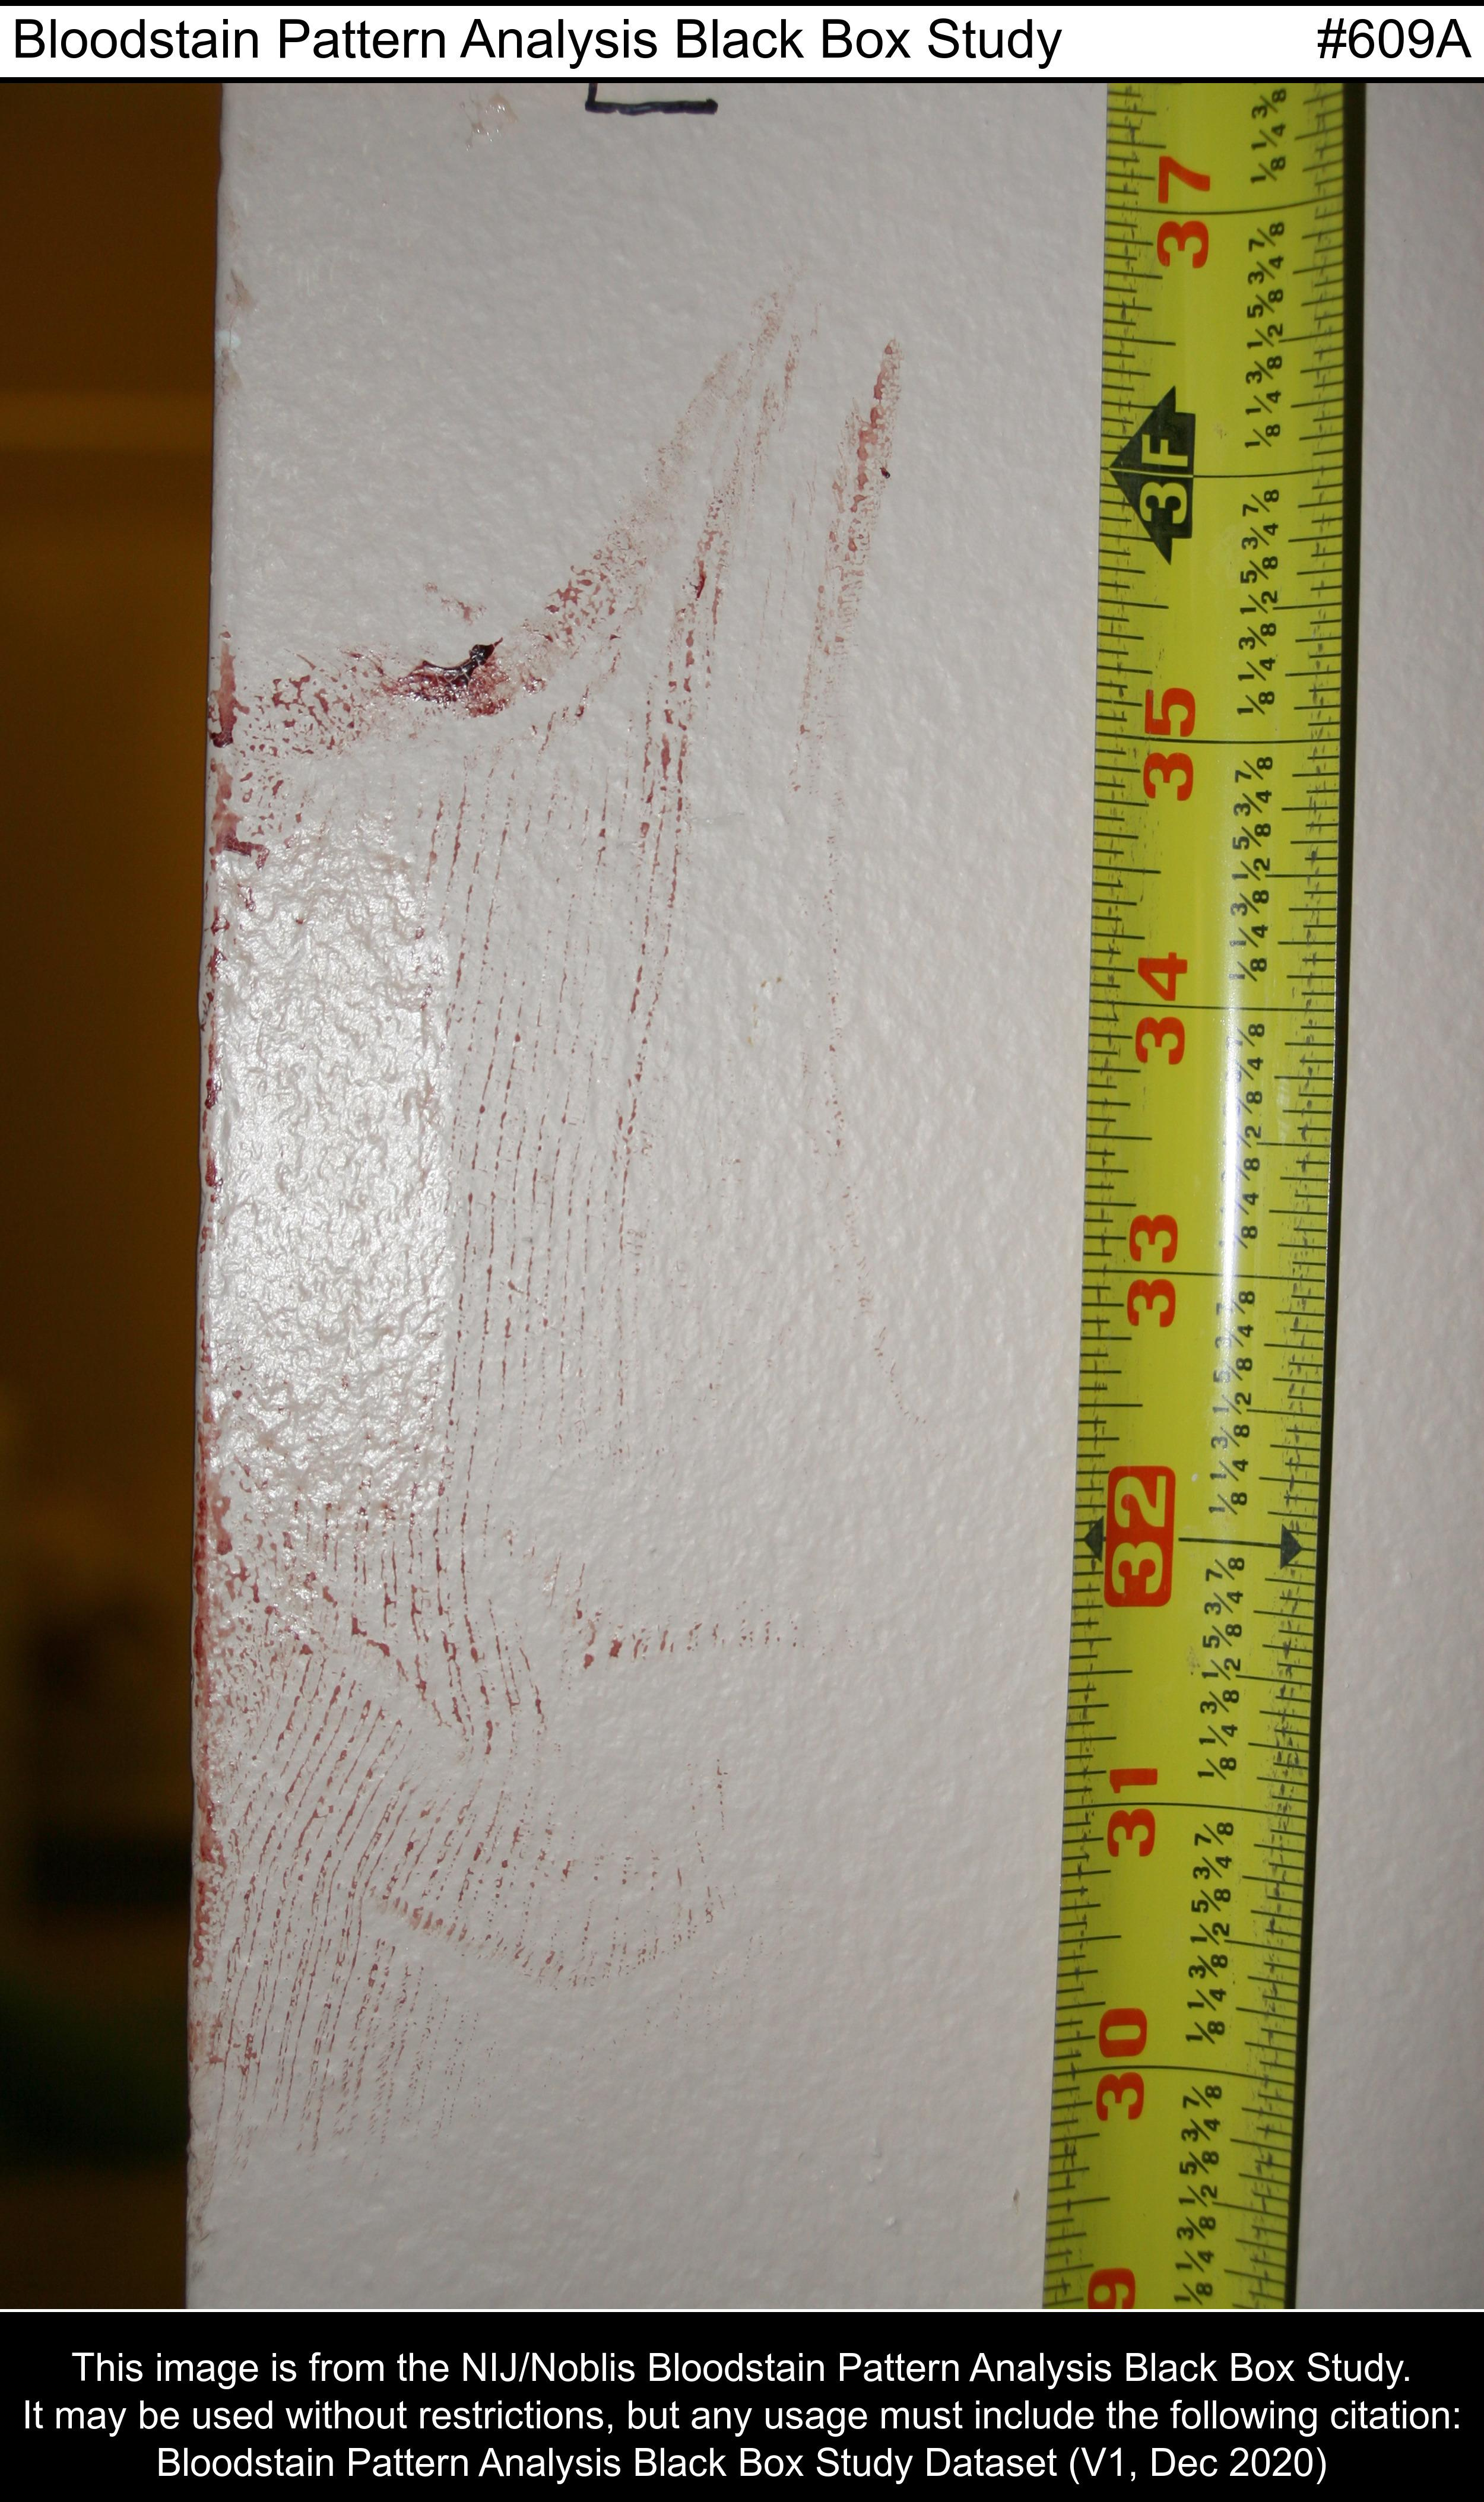Transfer: (217, 231, 984, 2105)
